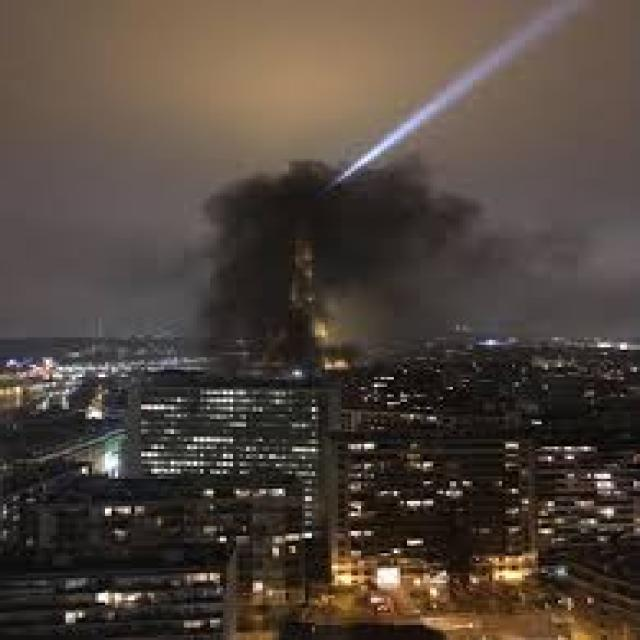Smoke: (159, 156, 602, 352)
